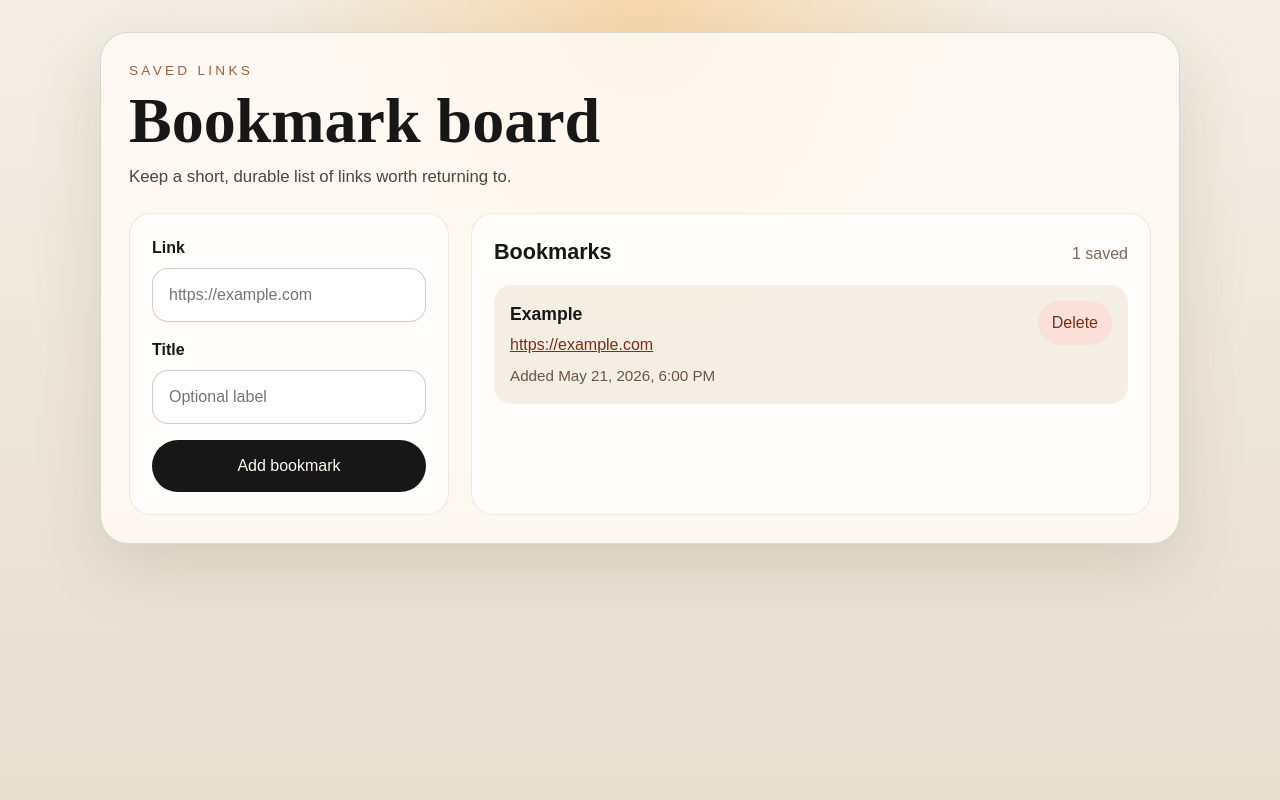
Scenario: clears the form after a successful bookmark add
The width and height of the screenshot is (1280, 800).
expect the heading "Example" is shown: met, box [510,304,582,324]
Type "https://openai.com" into the field labelled "Link".
click(289, 295); type("https://openai.com")  # box [152,268,426,322]
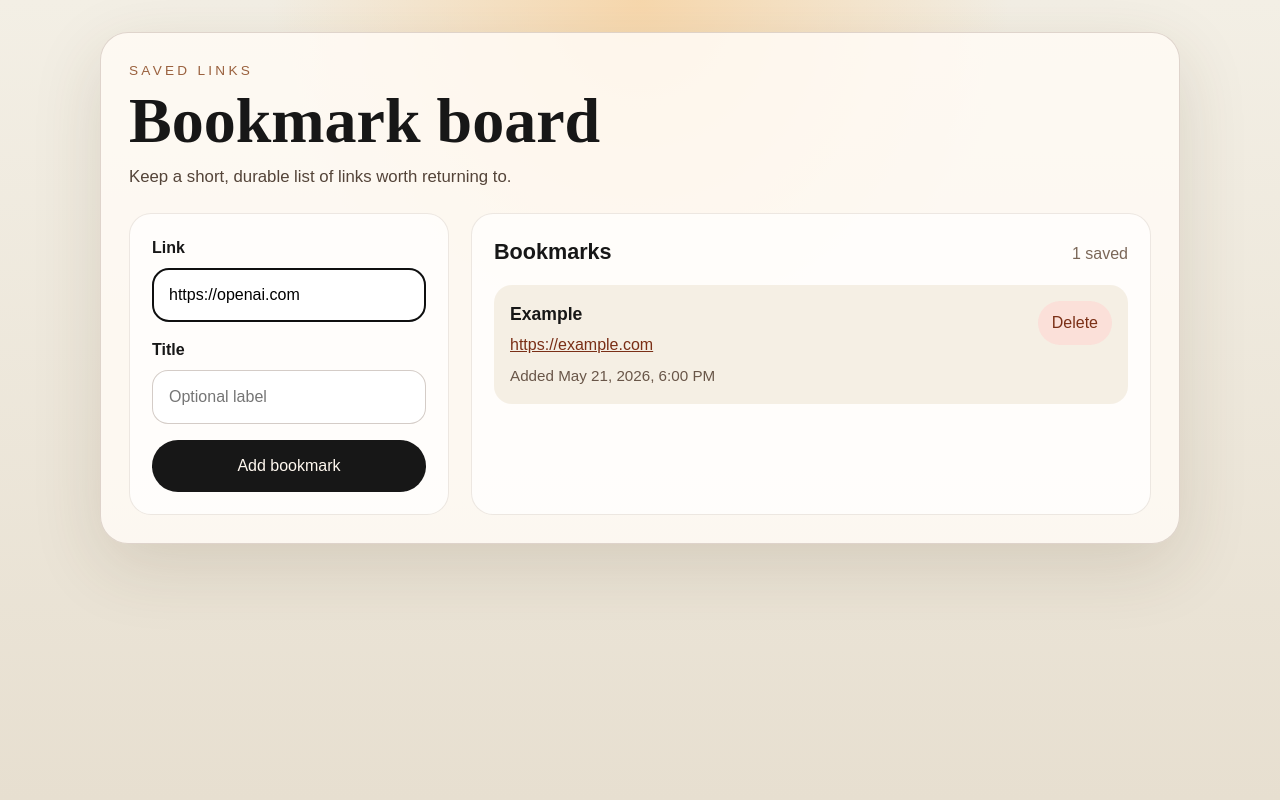
Type "OpenAI" into the field labelled "Title".
click(289, 397); type("OpenAI")  # box [152,370,426,424]
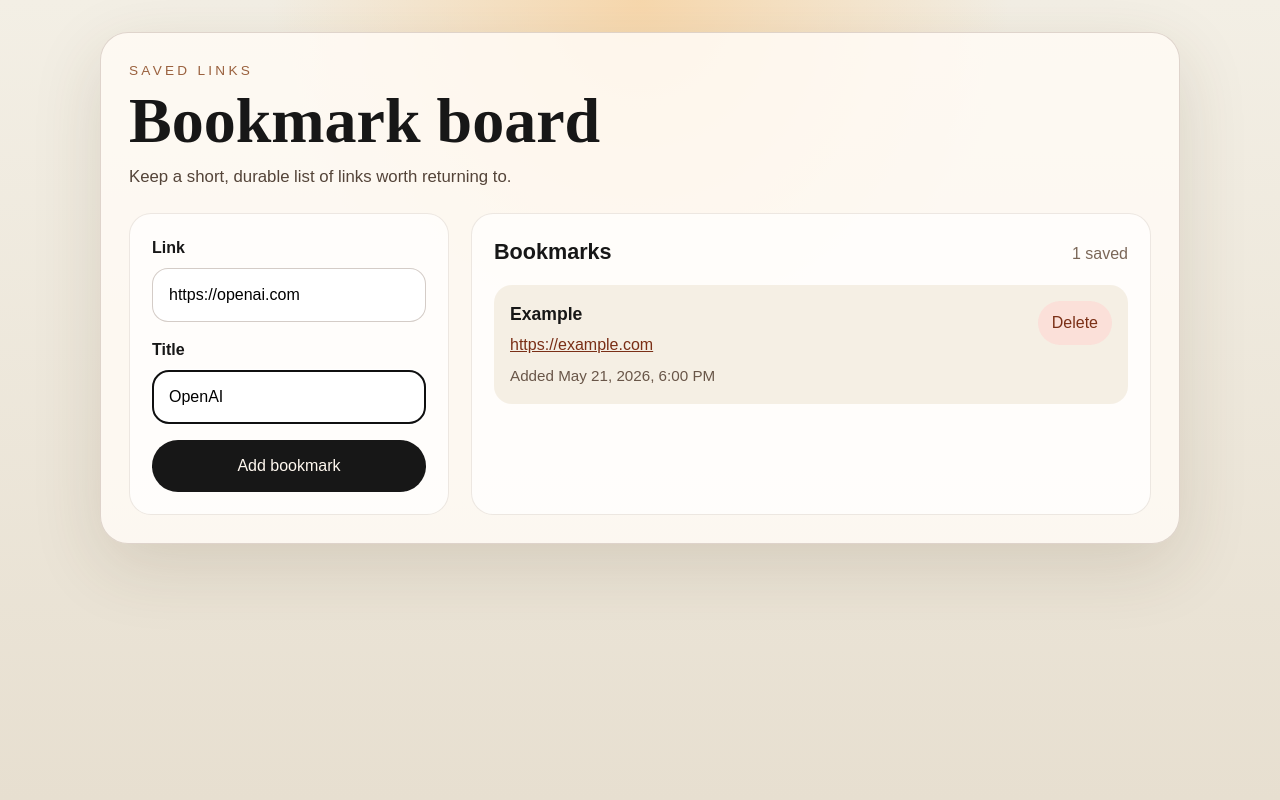
Click the button "Add bookmark".
click(289, 466)  # box [152,440,426,492]
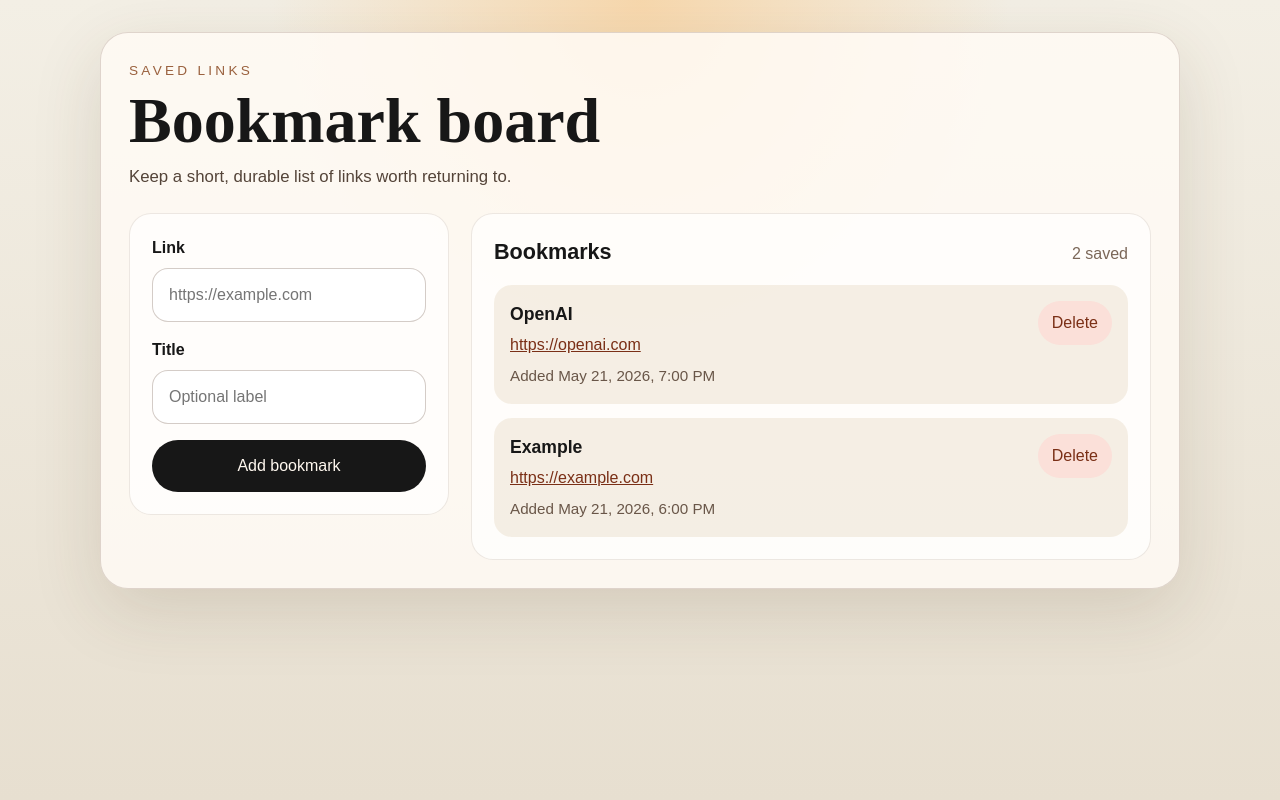
expect the field labelled "Link" is empty: met, box [152,268,426,322]
expect the field labelled "Title" is empty: met, box [152,370,426,424]
expect the heading "OpenAI" is shown: met, box [510,304,573,324]
